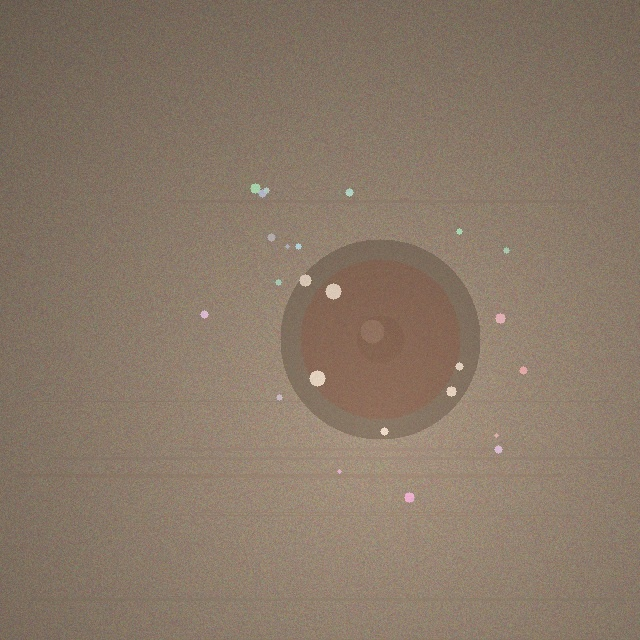overburn: (280, 239, 480, 439)
